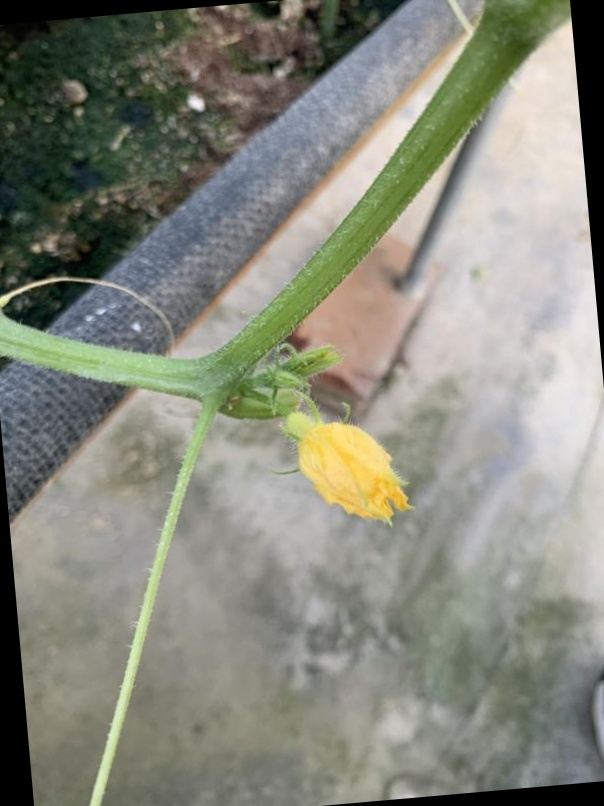bud: (267, 395, 442, 538)
